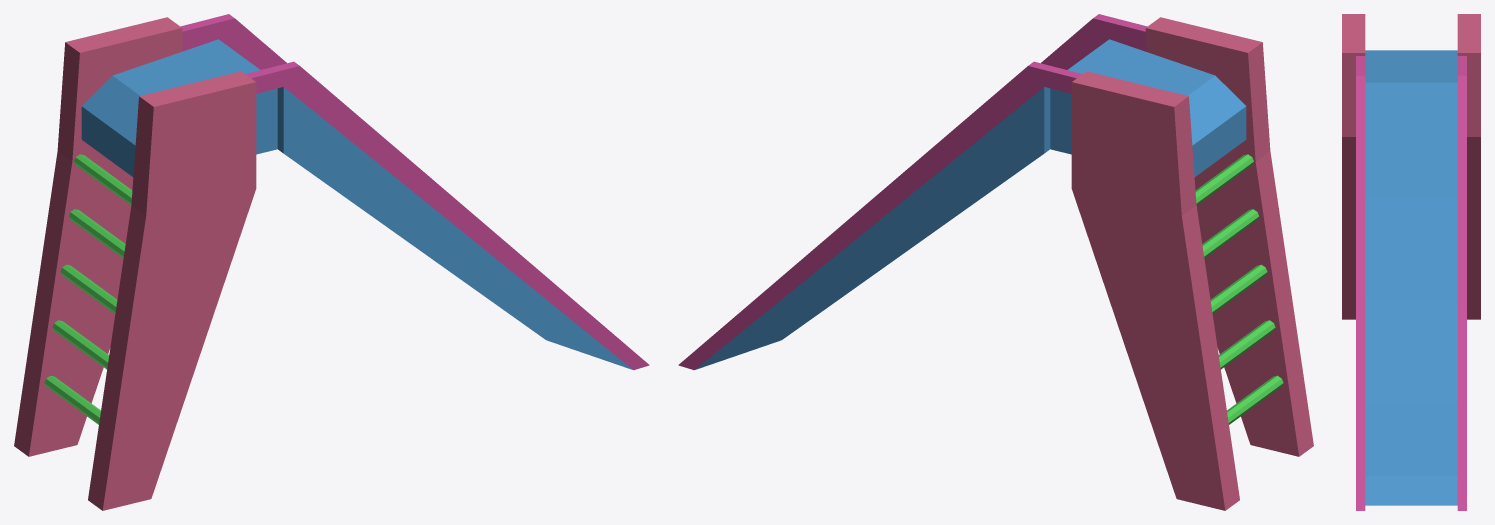
File: Slide.fbx
The picture shows the model from 3 angles, left to right: view 1: azimuth 30°, elevation 25°; view 2: azimuth 150°, elevation 25°; view 3: azimuth 270°, elevation 25°; orthographic projection. The views are drawn at different scales.
Visible parts, largest first — view 1: Cube.001; view 2: Cube.001; view 3: Cube.001.
Part boxes in pixels (bbox=[...]): Cube.001: bbox=[14, 14, 649, 510]; Cube.001: bbox=[678, 14, 1313, 510]; Cube.001: bbox=[1342, 14, 1480, 510].
Bounding box in the file's own units: 1087 × 731 × 300.
